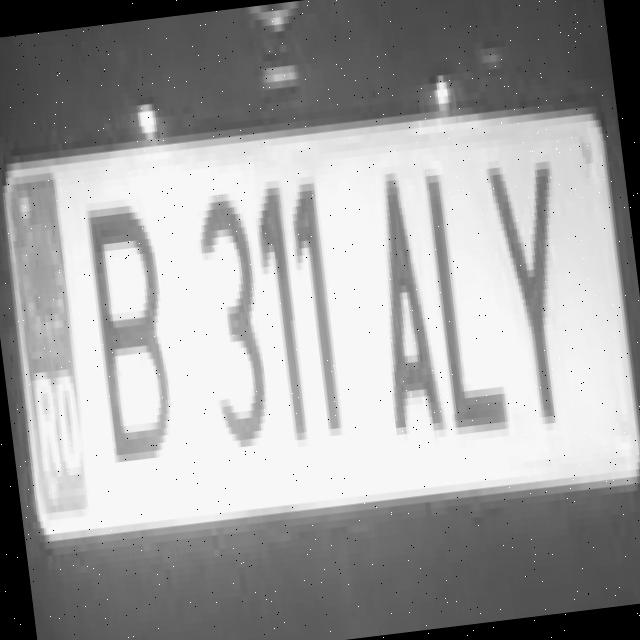EU: (0, 97, 640, 553)
Romanie: (6, 175, 97, 530)
